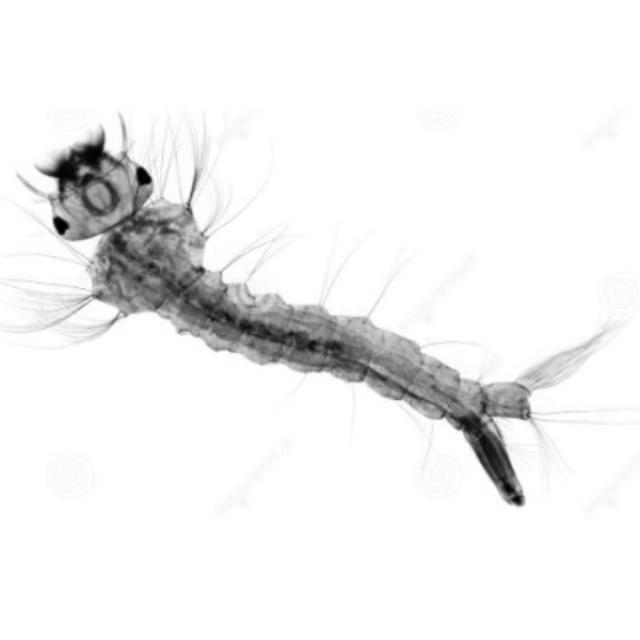larvas: (51, 147, 566, 498)
